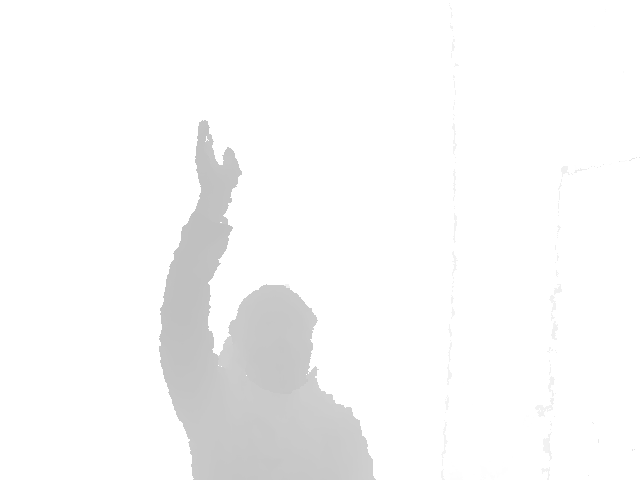hand: (192, 118, 243, 211)
head: (227, 284, 318, 395)
person: (158, 119, 377, 479)
